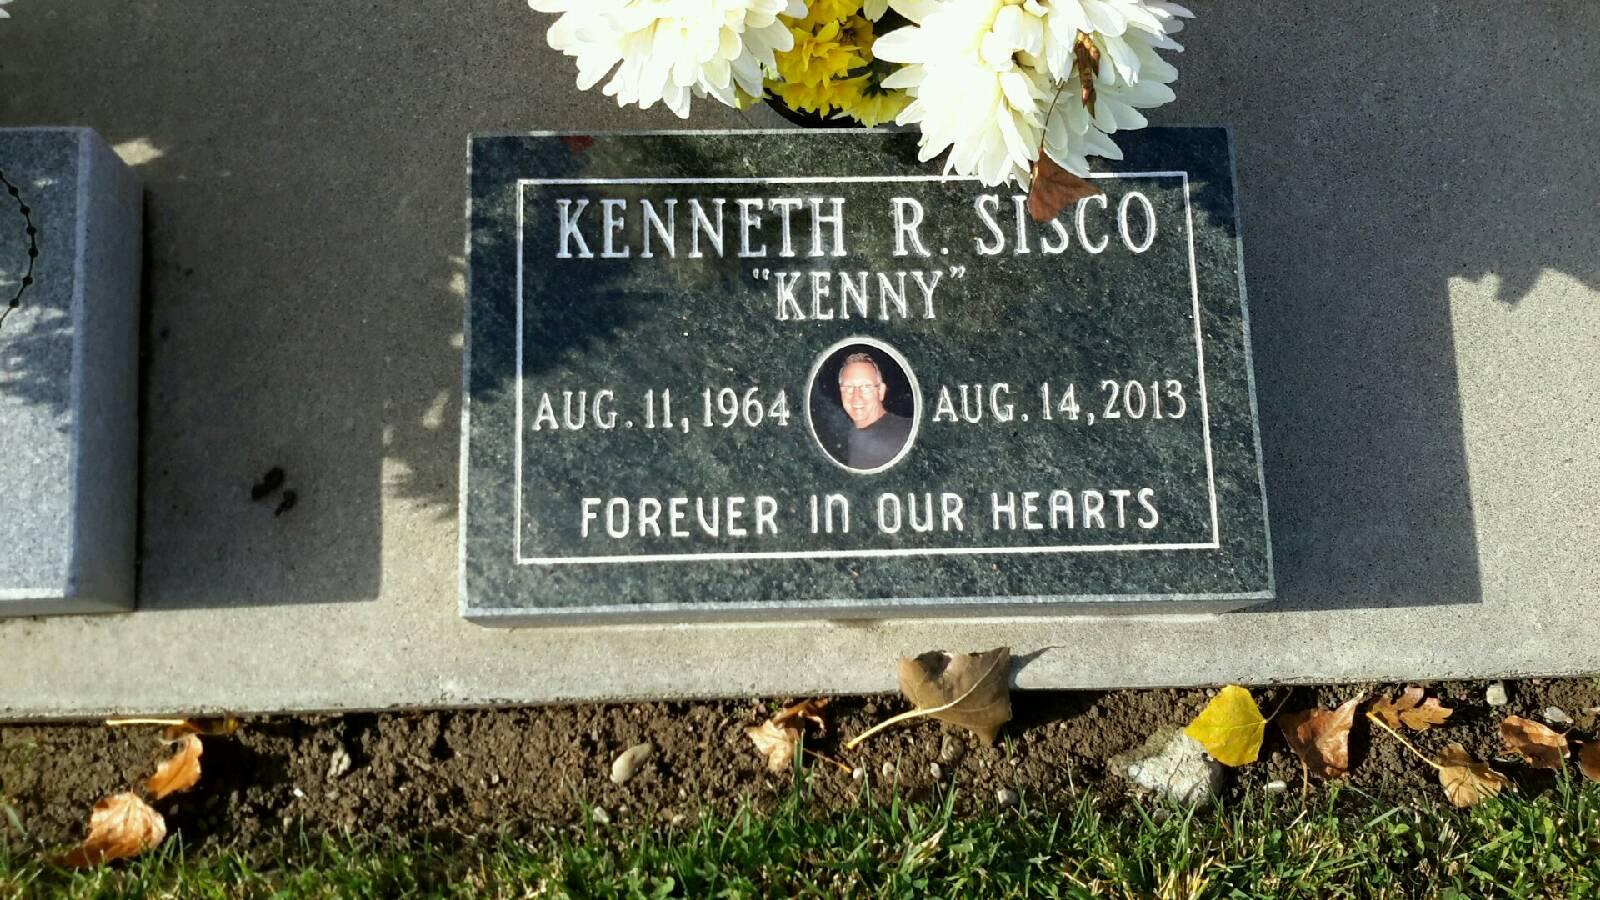flat: (449, 125, 1279, 623)
